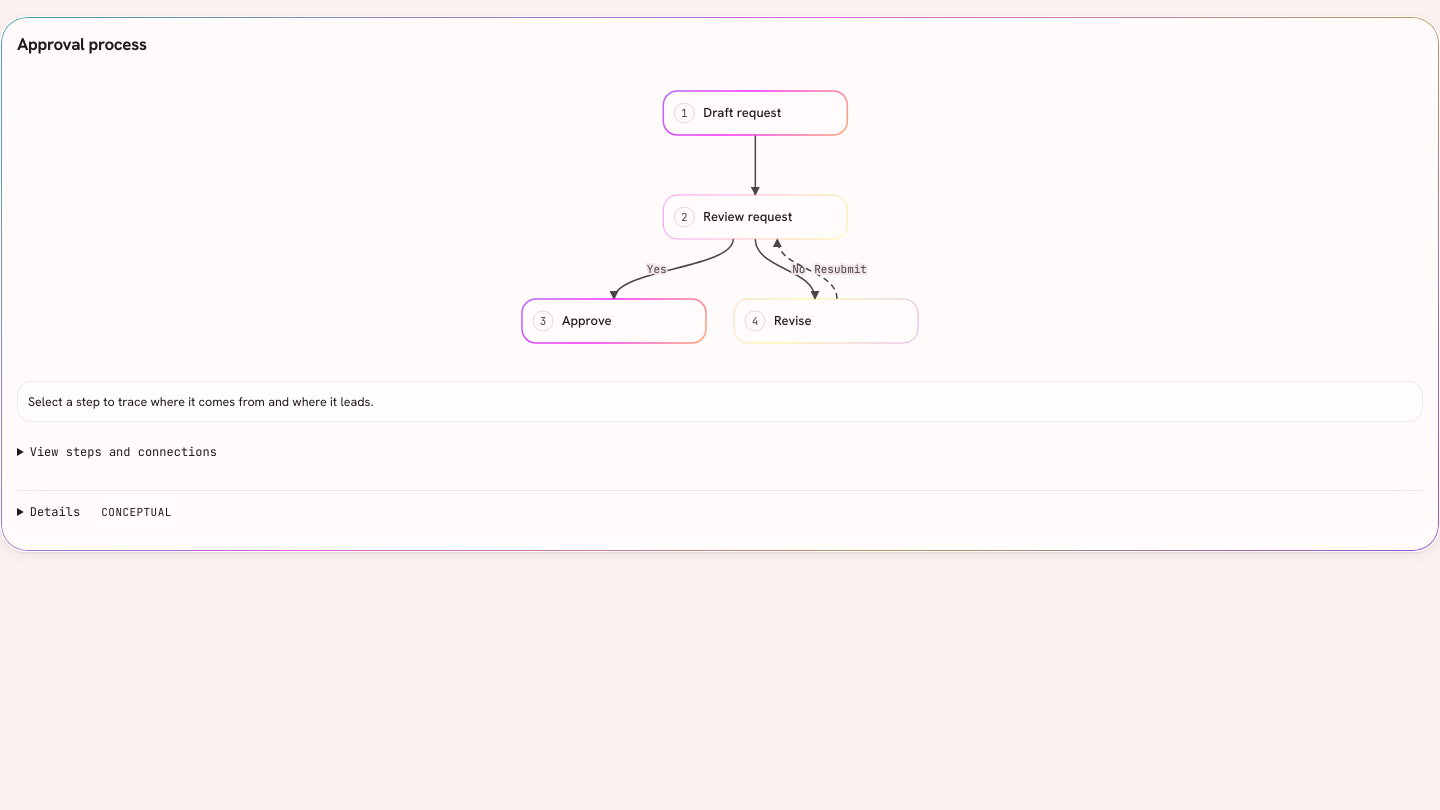
Test: flowchart diagram › renders a diagram with one focusable control per step and keeps the plain list available
Expected: the icon named "Approval process" is shown, [498, 67, 942, 367]
Expected: the button "Step 1: Draft request. This is an entry point. Leads to Review request." is shown, [681, 105, 781, 122]
Click the heading "View steps and connections" at (123, 452), box [30, 444, 217, 460]
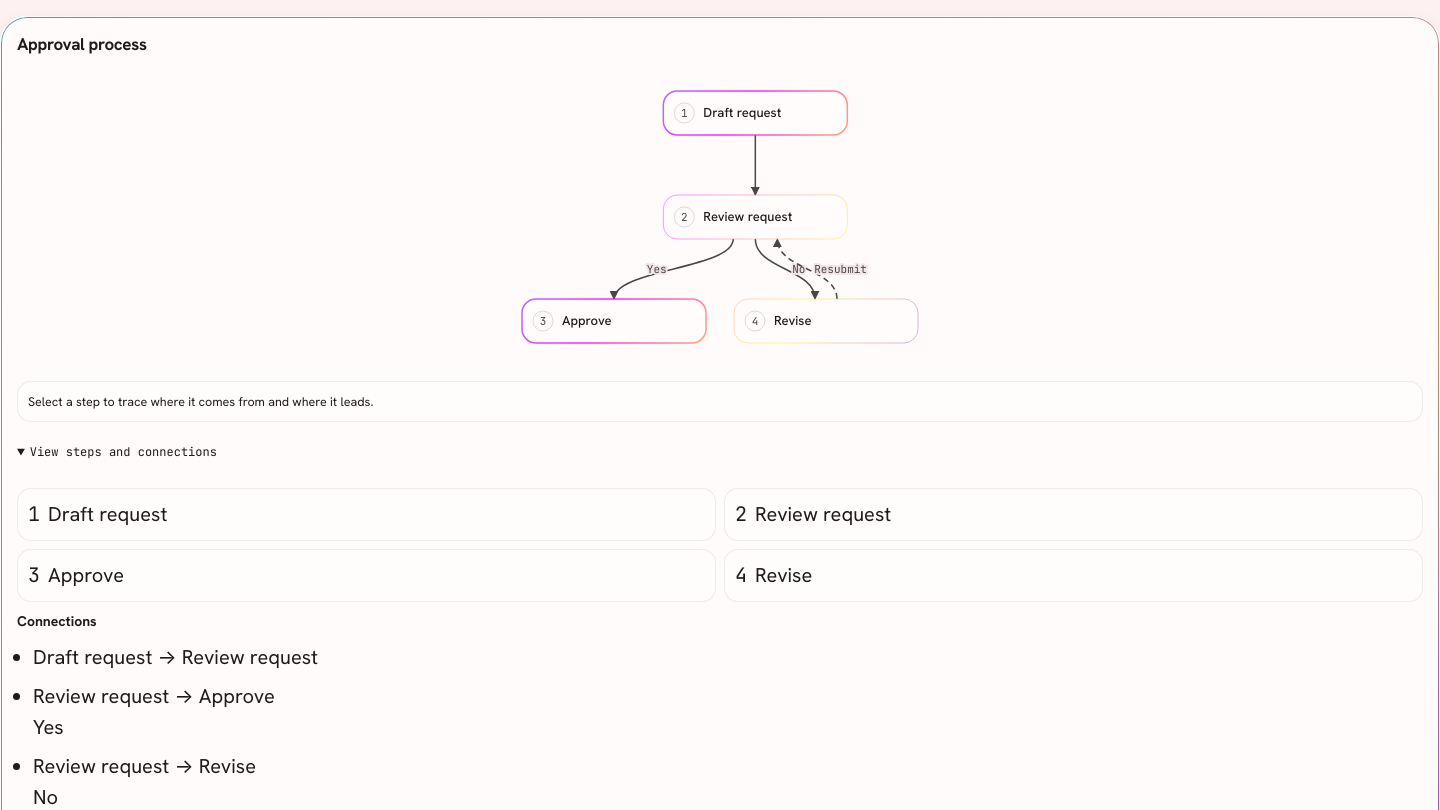
Expected: the heading "Connections" is shown, [17, 612, 97, 630]
